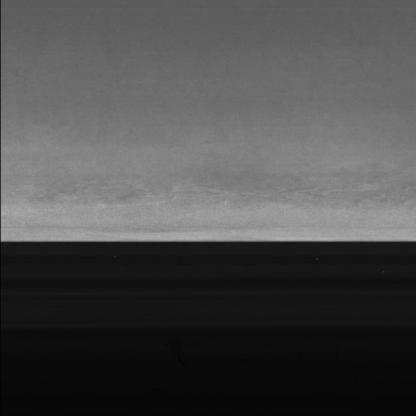silk_spot: (41, 157, 382, 213)
